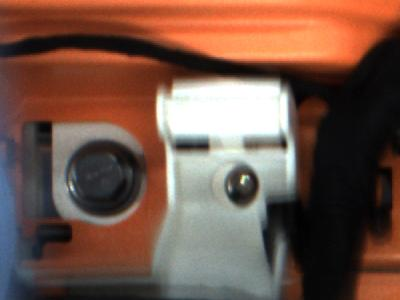nut_b: (60, 139, 152, 225)
